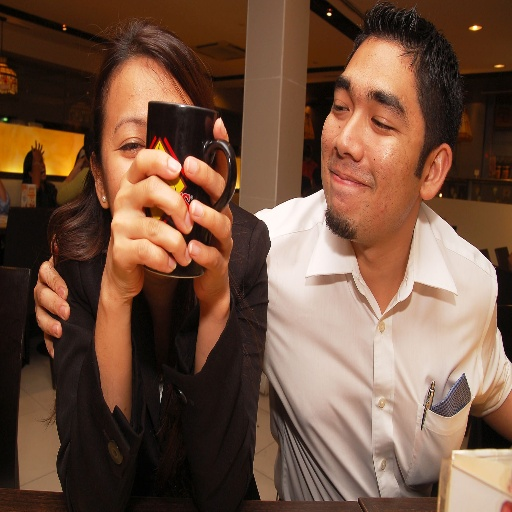hand: (102, 148, 194, 301), (183, 115, 235, 301), (27, 262, 69, 344), (30, 139, 44, 165), (76, 158, 86, 174)
